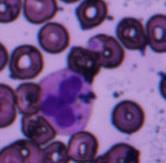N: (38, 67, 94, 134)
